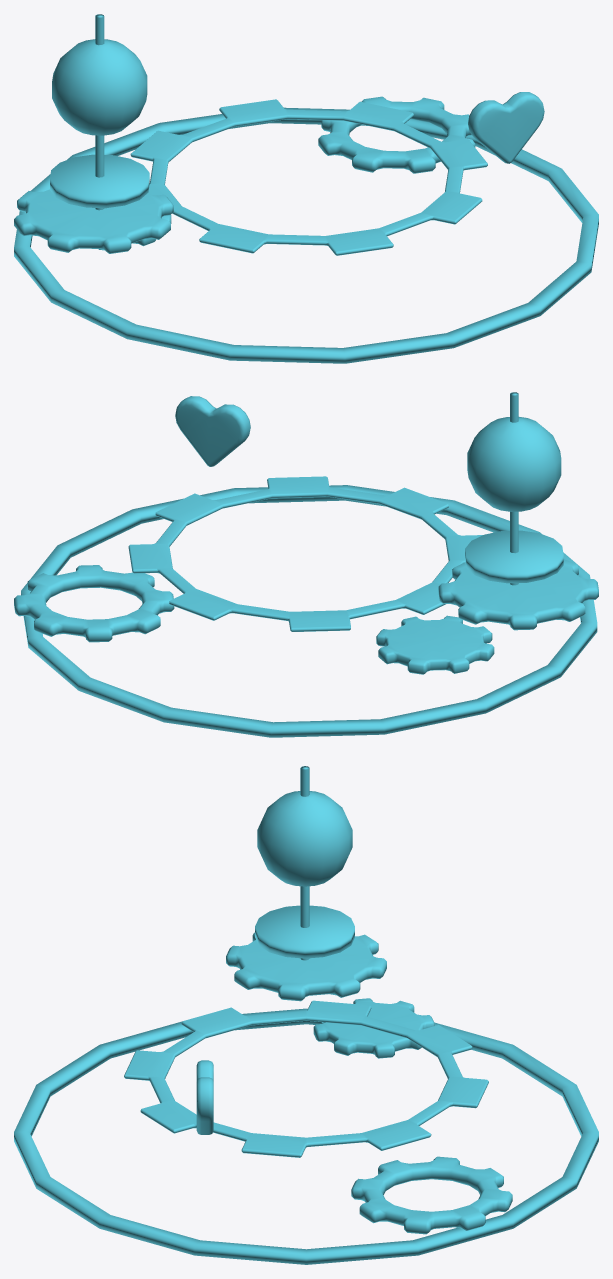
The model's file is WABD_backgrounds_mainmachine_down_lo.fbx.
3 renders of one model, top to bottom at view 1: azimuth 30°, elevation 25°; view 2: azimuth 150°, elevation 25°; view 3: azimuth 270°, elevation 25°, orthographic.
Visible parts, largest first — view 1: mainmachine_under_lo; view 2: mainmachine_under_lo; view 3: mainmachine_under_lo.
Part boxes in pixels (x1,y1,x2,y2): mainmachine_under_lo: (14,14,598,363); mainmachine_under_lo: (14,392,598,737); mainmachine_under_lo: (14,766,598,1264).
Bounding box in the file's own units: 474 × 231 × 449.
